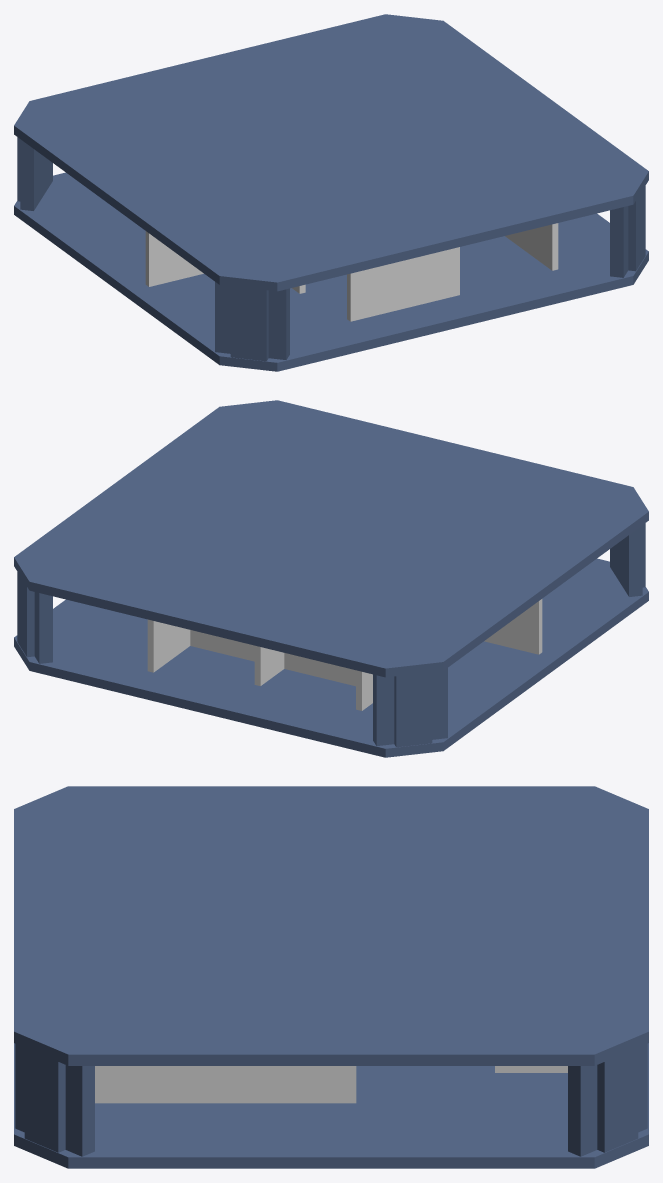
The model's file is mdl_floor_base_25x25.fbx.
3 renders of one model, top to bottom at view 1: azimuth 30°, elevation 25°; view 2: azimuth 150°, elevation 25°; view 3: azimuth 270°, elevation 25°, orthographic. The views are drawn at different scales.
Visible parts, largest first — view 1: Bordure_haute.002, Bordure_haute.003, Walls.001, Corner_pillar.004, Corner_pillar.006, Corner_pillar.005; view 2: Bordure_haute.002, Bordure_haute.003, Walls.001, Corner_pillar.005, Corner_pillar.007, Corner_pillar.004; view 3: Bordure_haute.002, Bordure_haute.003, Walls.001, Corner_pillar.006, Corner_pillar.007.
Part boxes in pixels (bbox=[...]): Bordure_haute.002: bbox=[14, 14, 648, 291]; Bordure_haute.003: bbox=[14, 172, 648, 371]; Walls.001: bbox=[145, 223, 558, 321]; Corner_pillar.004: bbox=[215, 282, 289, 361]; Corner_pillar.006: bbox=[610, 186, 645, 277]; Corner_pillar.005: bbox=[17, 137, 52, 210]; Bordure_haute.002: bbox=[14, 400, 648, 677]; Bordure_haute.003: bbox=[14, 558, 648, 757]; Walls.001: bbox=[147, 599, 542, 710]; Corner_pillar.005: bbox=[373, 668, 447, 747]; Corner_pillar.007: bbox=[17, 572, 52, 663]; Corner_pillar.004: bbox=[610, 523, 645, 596]; Bordure_haute.002: bbox=[14, 786, 648, 1065]; Bordure_haute.003: bbox=[14, 1043, 648, 1168]; Walls.001: bbox=[95, 1066, 567, 1103]; Corner_pillar.006: bbox=[15, 1043, 94, 1156]; Corner_pillar.007: bbox=[568, 1043, 647, 1156].
Bounding box in the file's own units: 25.69 × 5.1 × 25.69.
